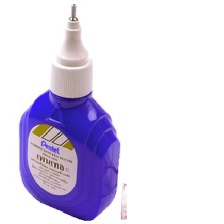correction_fluid: (13, 0, 123, 222)
